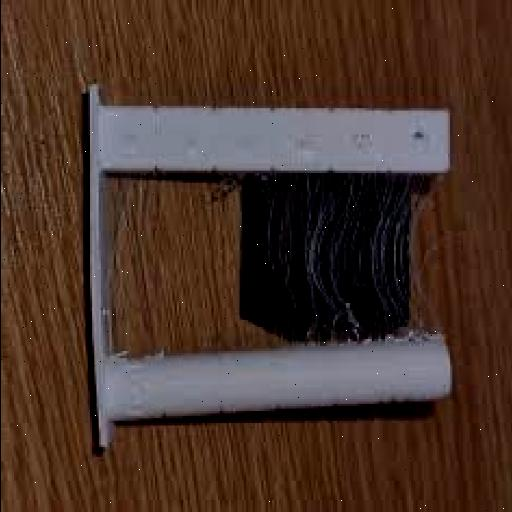stringing: (258, 176, 443, 344)
